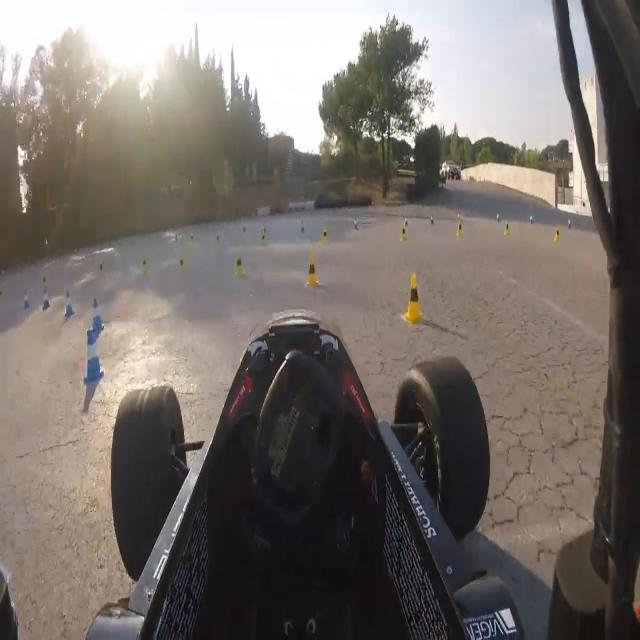blue_cone: (81, 321, 104, 390), (36, 276, 55, 314), (60, 285, 78, 325), (88, 291, 106, 318), (20, 285, 34, 317)
yellow_cone: (398, 265, 430, 331), (302, 240, 330, 296), (226, 244, 250, 278), (173, 245, 190, 276)
